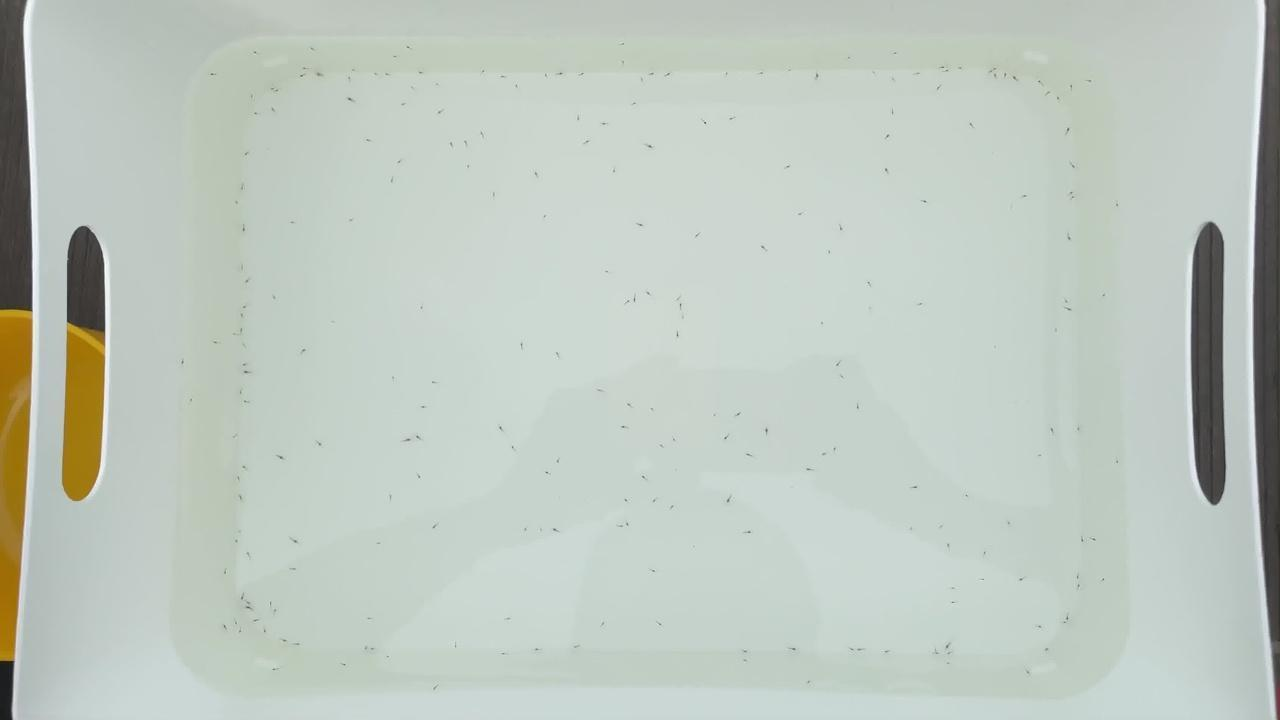shrimp: (1098, 578, 1111, 586), (1072, 534, 1085, 542), (959, 495, 972, 503), (948, 595, 961, 603), (942, 650, 955, 658), (929, 645, 942, 653), (737, 656, 750, 664), (597, 622, 610, 630), (572, 645, 585, 653), (366, 645, 379, 653), (332, 661, 345, 669), (229, 617, 242, 625), (219, 622, 232, 630), (262, 600, 275, 608), (314, 439, 327, 447), (242, 368, 255, 376), (238, 301, 251, 309), (232, 201, 245, 209), (299, 68, 312, 76), (315, 68, 328, 76), (387, 378, 400, 386), (428, 384, 441, 392), (376, 539, 389, 547), (538, 467, 551, 475), (520, 340, 533, 348), (496, 429, 509, 437), (829, 445, 842, 453), (851, 406, 864, 414), (676, 306, 689, 314), (673, 290, 686, 298), (475, 63, 488, 71), (491, 68, 504, 76), (510, 80, 523, 88), (616, 58, 629, 66), (701, 118, 714, 126), (918, 301, 931, 309), (1063, 301, 1076, 309), (1067, 190, 1080, 198), (921, 196, 934, 204), (931, 63, 944, 71), (1033, 80, 1046, 88), (358, 645, 370, 653), (275, 633, 287, 641), (236, 312, 248, 320), (623, 401, 635, 409), (723, 495, 735, 503), (480, 129, 492, 137), (1111, 202, 1123, 210), (1042, 646, 1055, 653), (1088, 533, 1101, 540), (1012, 578, 1025, 585), (975, 579, 988, 586), (978, 547, 991, 554), (943, 545, 956, 552), (932, 524, 945, 531), (904, 529, 917, 536), (907, 485, 920, 492), (943, 644, 956, 651), (882, 647, 895, 654), (852, 647, 865, 654), (844, 646, 857, 653), (804, 681, 817, 688), (783, 640, 796, 647), (737, 643, 750, 650), (648, 620, 661, 627), (530, 644, 543, 651), (496, 650, 509, 657), (502, 614, 515, 621), (448, 643, 461, 650), (425, 684, 438, 691), (267, 666, 280, 673), (290, 640, 303, 647), (256, 623, 269, 630), (229, 627, 242, 634), (248, 612, 261, 619), (268, 611, 281, 618), (242, 606, 255, 613), (241, 597, 254, 604), (236, 593, 249, 600), (220, 570, 233, 577), (241, 549, 254, 556), (233, 537, 246, 544), (286, 535, 299, 542), (284, 566, 297, 573), (236, 491, 249, 498), (227, 470, 240, 477), (226, 430, 239, 437), (185, 399, 198, 406), (179, 356, 192, 363), (206, 341, 219, 348), (244, 397, 257, 404), (232, 384, 245, 391), (244, 356, 257, 363), (292, 343, 305, 350), (236, 341, 249, 348), (270, 293, 283, 300), (241, 281, 254, 288), (233, 263, 246, 270), (236, 221, 249, 228), (238, 182, 251, 189), (240, 146, 253, 153), (206, 68, 219, 75), (249, 47, 262, 54), (244, 92, 257, 99), (248, 108, 261, 115), (266, 107, 279, 114), (265, 85, 278, 92), (273, 86, 286, 93), (297, 73, 310, 80), (304, 48, 317, 55), (343, 74, 356, 81), (349, 64, 362, 71), (344, 92, 357, 99), (363, 131, 376, 138), (368, 71, 381, 78), (387, 53, 400, 60), (402, 41, 415, 48), (417, 64, 430, 71), (409, 84, 422, 91), (432, 79, 445, 86), (397, 100, 410, 107), (391, 160, 404, 167), (386, 172, 399, 179), (348, 215, 361, 222), (288, 217, 301, 224), (400, 436, 413, 443), (385, 499, 398, 506), (410, 468, 423, 475), (522, 529, 535, 536), (547, 528, 560, 535), (509, 442, 522, 449), (552, 351, 565, 358), (593, 387, 606, 394), (616, 425, 629, 432), (648, 411, 661, 418), (658, 442, 671, 449), (668, 437, 681, 444), (648, 499, 661, 506), (637, 471, 650, 478), (617, 526, 630, 533), (648, 567, 661, 574), (667, 502, 680, 509), (741, 526, 754, 533), (760, 428, 773, 435), (732, 412, 745, 419), (719, 435, 732, 442), (803, 468, 816, 475), (834, 374, 847, 381), (830, 355, 843, 362), (816, 322, 829, 329), (716, 413, 729, 420), (670, 331, 683, 338), (678, 312, 691, 319), (643, 288, 656, 295), (631, 298, 644, 305), (621, 299, 634, 306), (538, 216, 551, 223), (530, 169, 543, 176), (463, 164, 476, 171), (445, 142, 458, 149), (461, 137, 474, 144), (544, 70, 557, 77), (558, 70, 571, 77), (578, 74, 591, 81), (644, 76, 657, 83), (650, 67, 663, 74), (665, 70, 678, 77), (632, 98, 645, 105), (639, 146, 652, 153), (601, 166, 614, 173), (580, 138, 593, 145), (599, 115, 612, 122), (575, 115, 588, 122), (728, 117, 741, 124), (721, 71, 734, 78), (758, 70, 771, 77), (807, 72, 820, 79), (692, 229, 705, 236), (755, 243, 768, 250), (792, 206, 805, 213), (780, 157, 793, 164), (836, 226, 849, 233), (823, 244, 836, 251), (864, 282, 877, 289), (869, 301, 882, 308), (1072, 425, 1085, 432), (1109, 457, 1122, 464), (1057, 288, 1070, 295), (1094, 293, 1107, 300), (1058, 239, 1071, 246), (1069, 197, 1082, 204), (1018, 191, 1031, 198), (882, 168, 895, 175), (880, 131, 893, 138), (886, 78, 899, 85), (892, 49, 905, 56), (871, 72, 884, 79), (840, 59, 853, 66), (782, 67, 795, 74), (908, 71, 921, 78), (941, 64, 954, 71), (954, 67, 967, 74), (986, 68, 999, 75), (992, 76, 1005, 83), (964, 125, 977, 132), (1000, 71, 1013, 78), (1008, 76, 1021, 83), (1040, 87, 1053, 94), (1051, 94, 1064, 101), (1083, 79, 1096, 86), (1061, 124, 1074, 131), (1031, 449, 1044, 456), (1022, 674, 1034, 681), (1033, 621, 1045, 628), (1056, 618, 1068, 625), (1061, 617, 1073, 624), (1072, 583, 1084, 590), (1072, 572, 1084, 579), (1006, 515, 1018, 522), (945, 587, 957, 594), (945, 660, 957, 667), (380, 655, 392, 662), (363, 618, 375, 625), (236, 460, 248, 467), (274, 455, 286, 462), (225, 332, 237, 339), (236, 319, 248, 326), (385, 72, 397, 79), (430, 108, 442, 115), (413, 301, 425, 308), (413, 401, 425, 408), (413, 434, 425, 441), (430, 522, 442, 529), (552, 456, 564, 463), (490, 417, 502, 424), (618, 497, 630, 504), (618, 517, 630, 524), (745, 453, 757, 460), (817, 453, 829, 460), (601, 271, 613, 278), (490, 191, 502, 198), (634, 217, 646, 224), (1044, 425, 1056, 432), (1056, 324, 1068, 331), (884, 109, 896, 116), (934, 85, 946, 92), (1067, 84, 1079, 91), (1067, 165, 1079, 172)
